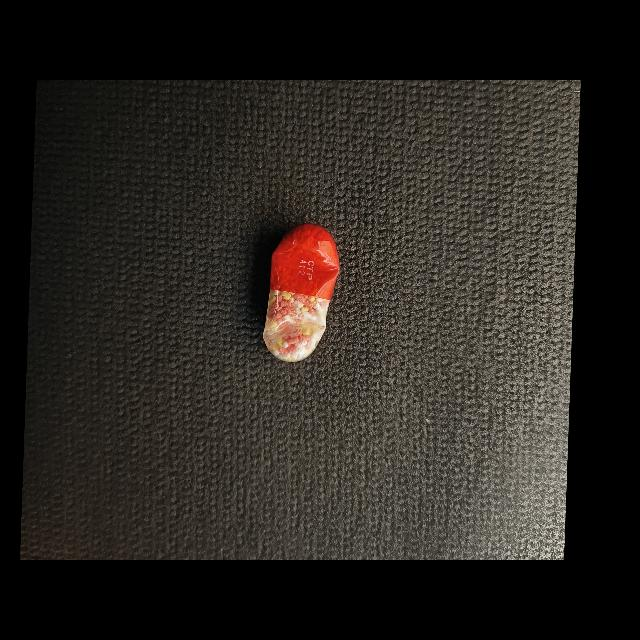Defective Capsule: (263, 224, 340, 362)
